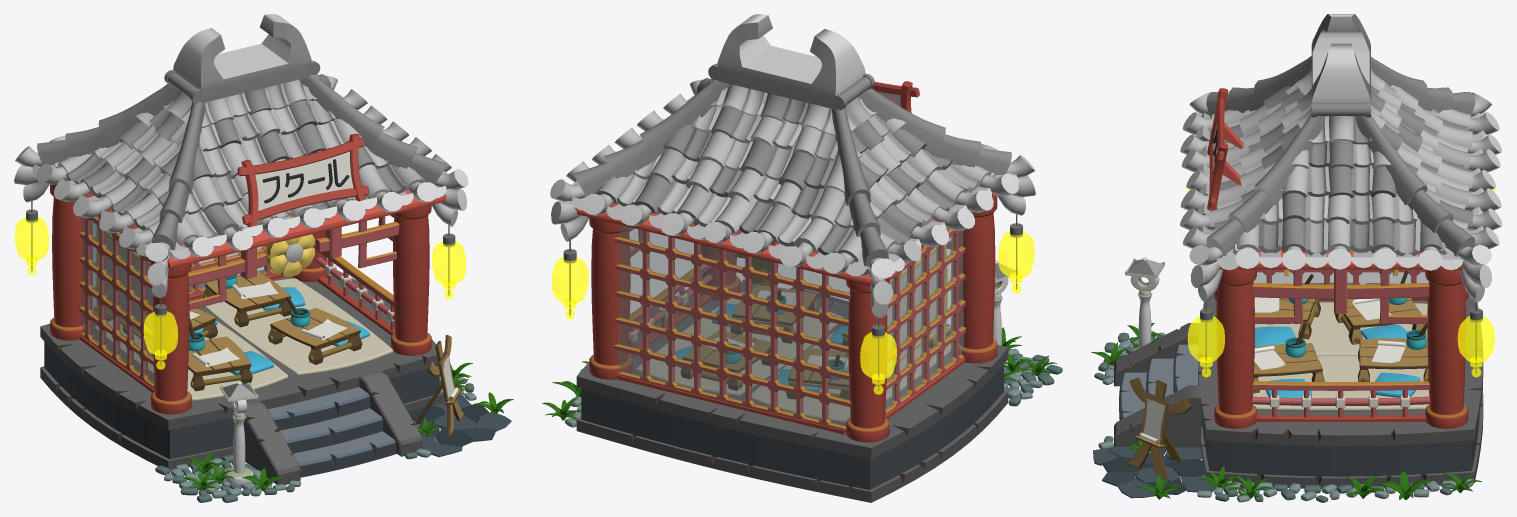
Rendered from late_night_lessions.glb.
3 views of the same model, side by side, from view 1: azimuth 30°, elevation 25°; view 2: azimuth 150°, elevation 25°; view 3: azimuth 270°, elevation 25° (orthographic). The views are drawn at different scales.
Parts seen in each view (by area): view 1: pCube64_phong24_0_918, pCube63_phong13_0_915, pCube253_phong15_0_1371, pCube24_phong8_0_865, pCylinder44_phong2_0_837, pCylinder48_phong2_0_848, pCylinder50_phong2_0_853, polySurface1614_phong25_0_1640, pCube64_phong55_0_917, pCube66_phong13_0_922, pCube66_phong33_0_923, pCube67_phong24_0_927 (+49 smaller); view 2: pCube23_phong8_0_863, pCube63_phong13_0_915, polySurface1867_phong27_0_2075, pCube64_phong24_0_918, pCube24_phong8_0_865, pCube64_phong55_0_917, pCube267_phong55_0_2099, pCylinder3_phong2_0_6, polySurface1867_phong45_0_2076, pCylinder48_phong2_0_848, polySurface1614_phong25_0_1640, pCylinder50_phong2_0_853 (+53 smaller); view 3: pCube63_phong13_0_915, pCube64_phong24_0_918, pCylinder3_phong2_0_6, pCylinder44_phong2_0_837, pCube253_phong15_0_1371, pCube64_phong55_0_917, polySurface1614_phong41_0_1639, pCube67_phong55_0_929, pCube66_phong33_0_923, pCube236_phong15_0_1361, polySurface1625_phong25_0_1671, polySurface1616_phong25_0_1644 (+76 smaller).
Part boxes in pixels (x1,y1,x2,y2): pCube64_phong24_0_918: [40, 269, 443, 419]; pCube63_phong13_0_915: [44, 342, 439, 459]; pCube253_phong15_0_1371: [203, 278, 393, 375]; pCube24_phong8_0_865: [81, 216, 154, 384]; pCylinder44_phong2_0_837: [393, 215, 429, 342]; pCylinder48_phong2_0_848: [52, 198, 85, 327]; pCylinder50_phong2_0_853: [153, 274, 189, 401]; polySurface1614_phong25_0_1640: [201, 15, 311, 102]; pCube64_phong55_0_917: [40, 327, 443, 430]; pCube66_phong13_0_922: [274, 397, 396, 477]; pCube66_phong33_0_923: [267, 387, 394, 463]; pCube67_phong24_0_927: [245, 371, 420, 470]; pCube23_phong8_0_863: [613, 202, 855, 426]; pCube63_phong13_0_915: [581, 364, 1003, 489]; polySurface1867_phong27_0_2075: [613, 221, 851, 432]; pCube64_phong24_0_918: [577, 281, 1007, 447]; pCube24_phong8_0_865: [885, 228, 963, 410]; pCube64_phong55_0_917: [576, 348, 1008, 458]; pCube267_phong55_0_2099: [576, 392, 1008, 502]; pCylinder3_phong2_0_6: [591, 229, 630, 365]; polySurface1867_phong45_0_2076: [614, 237, 850, 429]; pCylinder48_phong2_0_848: [848, 289, 887, 428]; polySurface1614_phong25_0_1640: [717, 15, 835, 109]; pCylinder50_phong2_0_853: [959, 213, 995, 349]; pCube63_phong13_0_915: [1202, 414, 1479, 477]; pCube64_phong24_0_918: [1198, 283, 1483, 435]; pCylinder3_phong2_0_6: [1427, 281, 1465, 414]; pCylinder44_phong2_0_837: [1216, 282, 1254, 414]; pCube253_phong15_0_1371: [1253, 356, 1429, 411]; pCube64_phong55_0_917: [1198, 368, 1483, 446]; polySurface1614_phong41_0_1639: [1311, 14, 1370, 103]; pCube67_phong55_0_929: [1115, 336, 1201, 447]; pCube66_phong33_0_923: [1121, 344, 1198, 417]; pCube236_phong15_0_1361: [1255, 302, 1427, 355]; polySurface1625_phong25_0_1671: [1355, 115, 1426, 204]; polySurface1616_phong25_0_1644: [1255, 113, 1329, 204].
Size of the model in its own units: 5.45 by 5.36 by 5.19.
